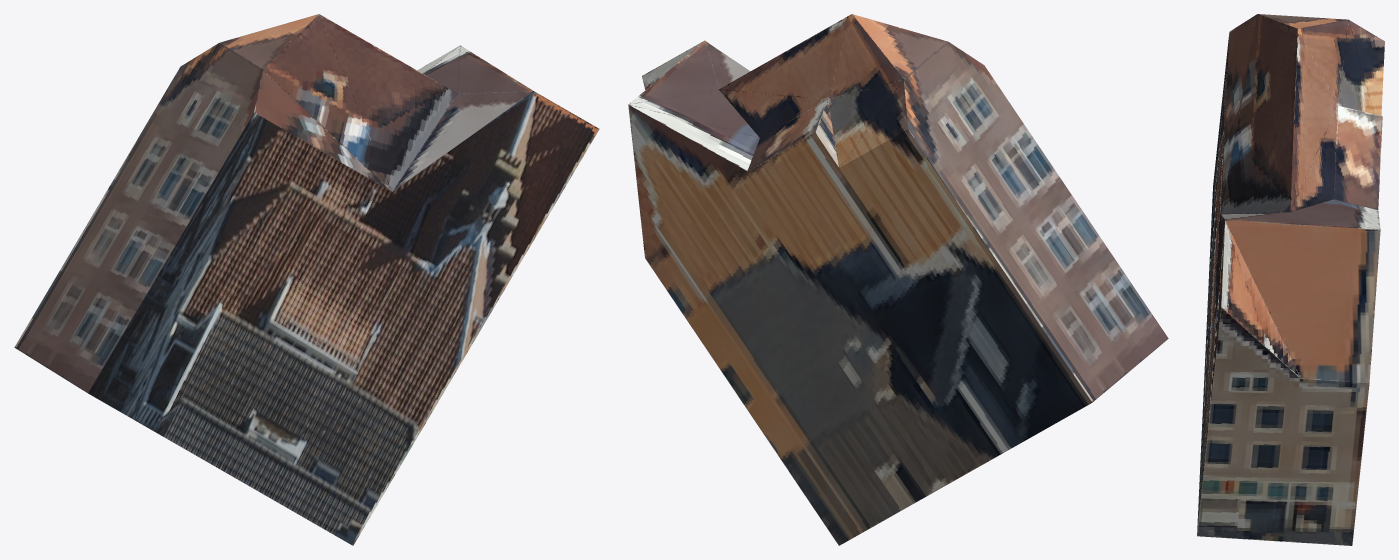
3 views of the same model, side by side, from view 1: azimuth 30°, elevation 25°; view 2: azimuth 150°, elevation 25°; view 3: azimuth 270°, elevation 25° (orthographic). The views are drawn at different scales.
Parts seen in each view (by area): view 1: BAG_0599100000760365 (×3); view 2: BAG_0599100000760365 (×5); view 3: BAG_0599100000760365 (×5).
Boxes of the visible parts, x1,y1,x2,y2 form: BAG_0599100000760365 (×3): (14, 14, 599, 545); BAG_0599100000760365 (×5): (628, 14, 1168, 545); BAG_0599100000760365 (×5): (1197, 14, 1384, 545).
Bounding box in the file's own units: 25.21 × 23.46 × 7.62.
Materials: 1 (1 with a texture image).
